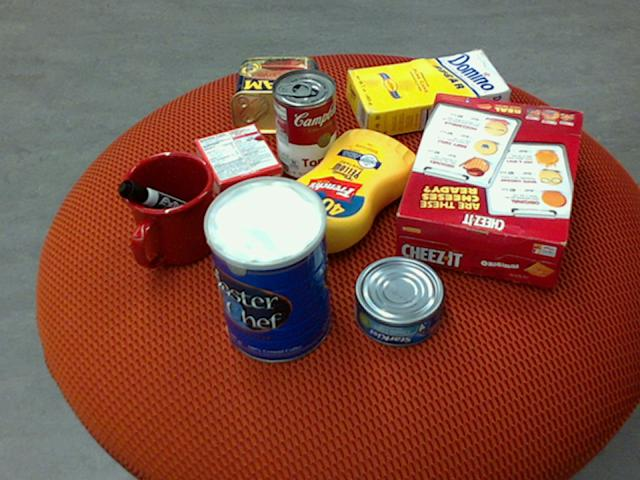cracker_box: (395, 91, 584, 286)
gelatin_box: (193, 122, 281, 203)
large_marker: (116, 179, 212, 227)
master_chef_can: (199, 177, 331, 364)
mug: (117, 151, 218, 268)
mustard_bottle: (271, 128, 418, 265)
potted_meat_can: (231, 56, 320, 133)
sugar_box: (346, 49, 511, 138)
tomato_soup_can: (272, 67, 336, 178)
tuna_fish_can: (355, 256, 445, 347)
